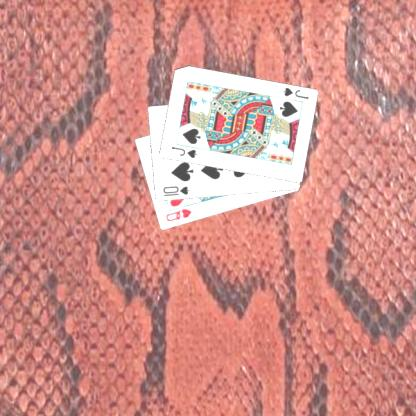10S: (160, 184, 191, 198)
JS: (168, 144, 198, 160), (280, 85, 309, 101)
QH: (162, 206, 193, 223)
